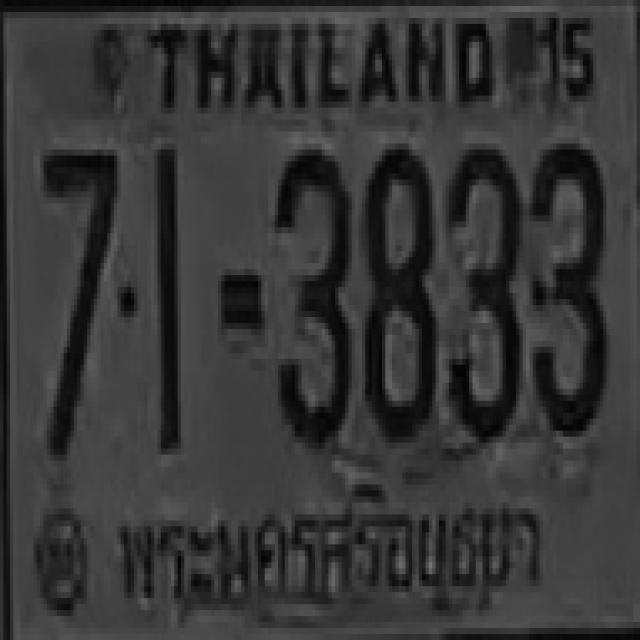1: (154, 140, 178, 446)
3: (273, 140, 350, 440), (528, 137, 605, 430), (446, 144, 519, 436)
7: (40, 140, 114, 452)
8: (362, 140, 432, 434)
Ayutthaya: (99, 473, 546, 626)
